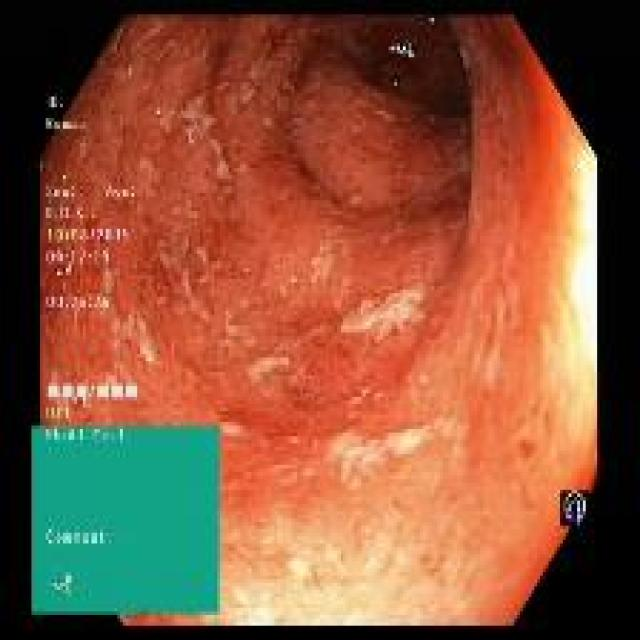ulcerative-colitis: (40, 17, 596, 623)
